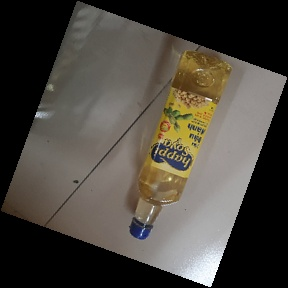Simply: (123, 47, 236, 243)
